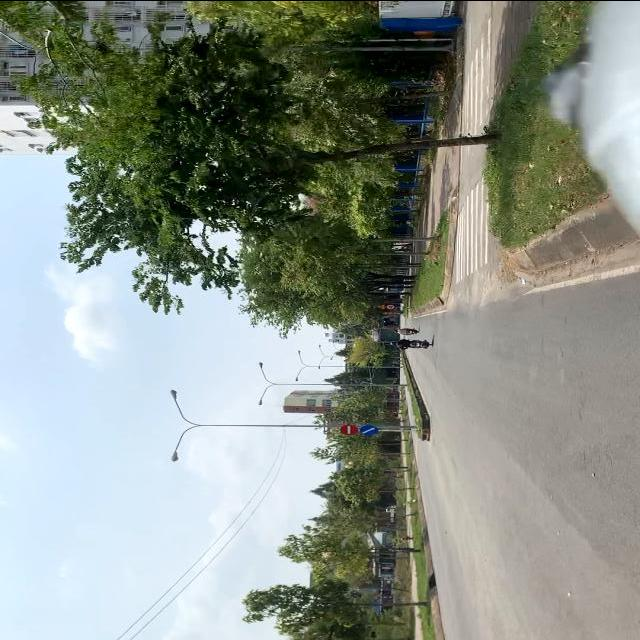P-102: (340, 424, 360, 434)
R-302a: (358, 424, 378, 436)
